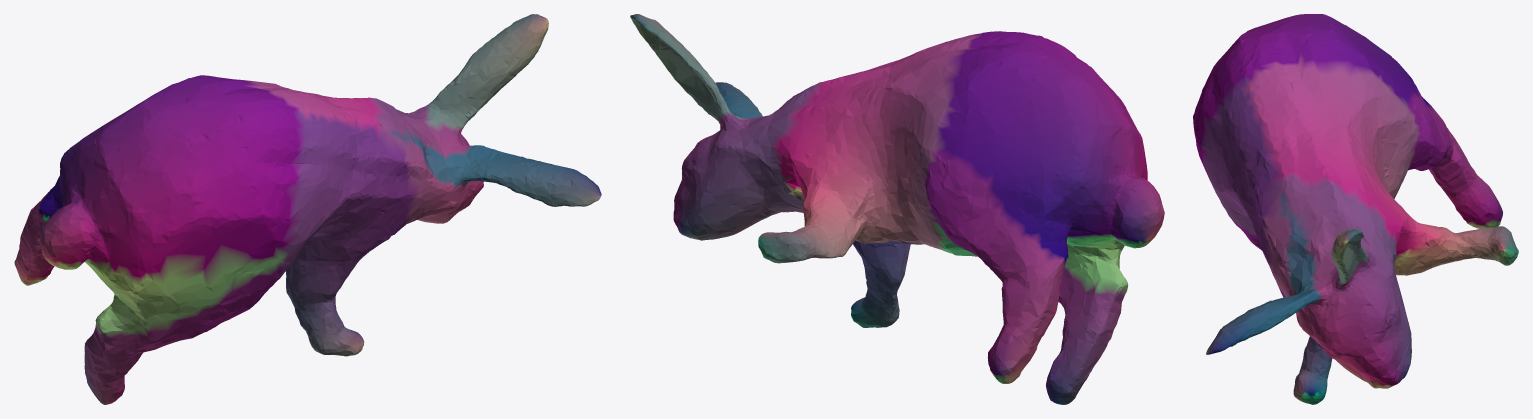
The model's file is rabbit-9.off.obj.
3 renders of one model, left to right at view 1: azimuth 30°, elevation 25°; view 2: azimuth 150°, elevation 25°; view 3: azimuth 270°, elevation 25°, orthographic.
Bounding box in the file's own units: 1.47 × 0.8638 × 0.8102.
